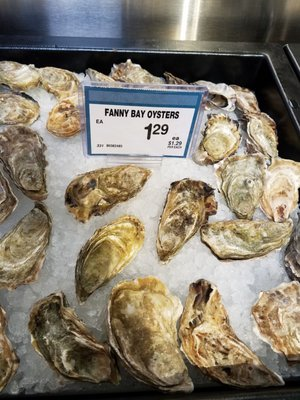pasta: (178, 279, 285, 389)
